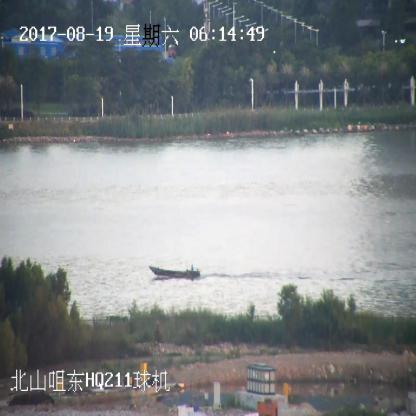Fishing Boat: (149, 263, 200, 280)
